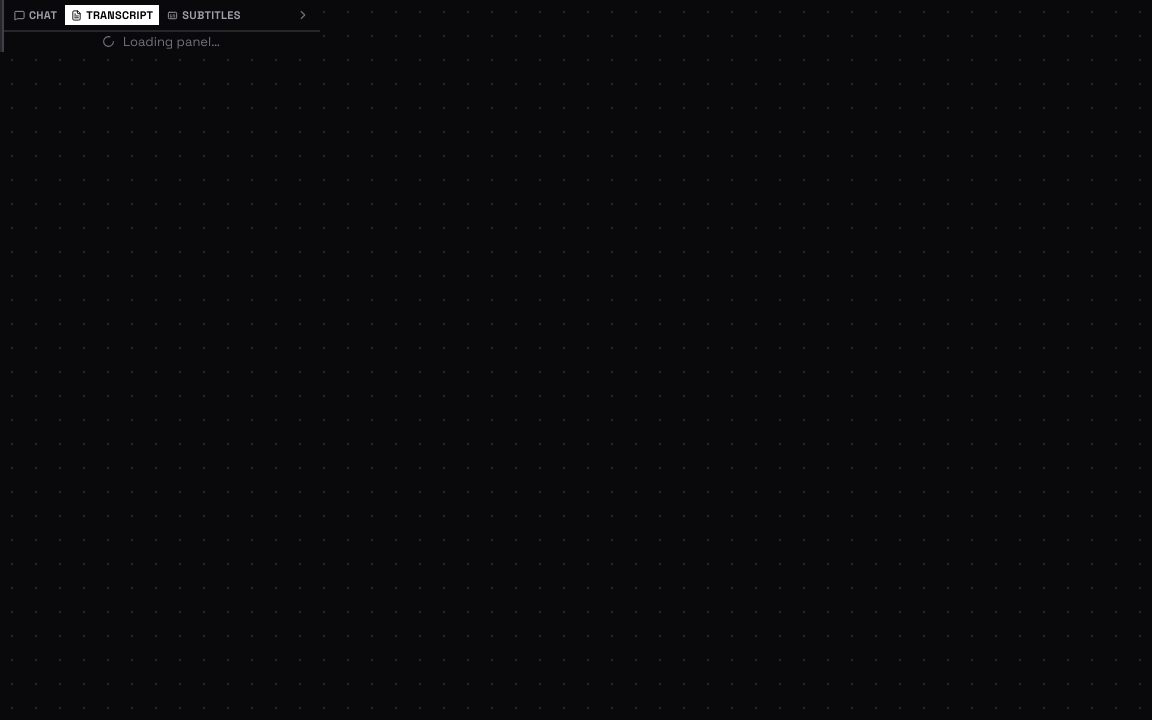
Scenario: PreviewChatPanel › shows a loading indicator + backfill progress while the backfill is running, not a terminal empty state
Click the tab "Chat" at [36, 15], box [8, 5, 63, 25]
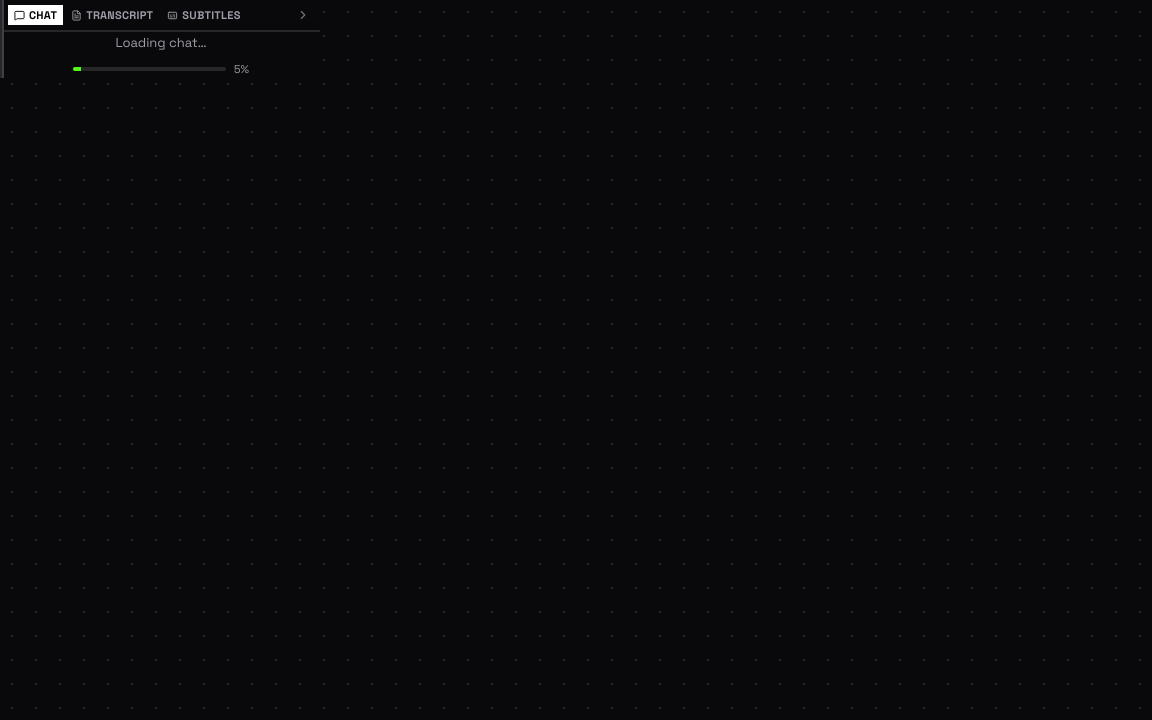
Expected: the text "Loading chat…" is shown, [115, 32, 207, 53]
Expected: the text "5%" is shown, [234, 61, 249, 78]
